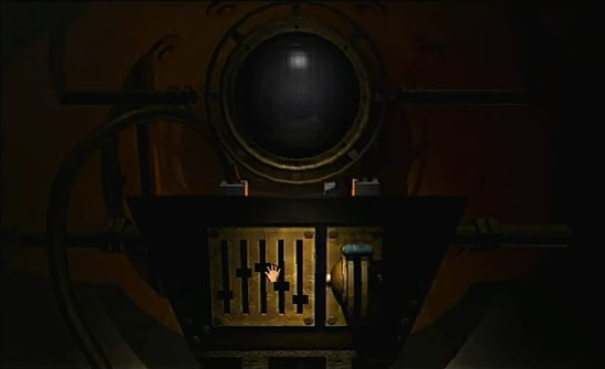Pointer: (263, 260, 282, 283)
